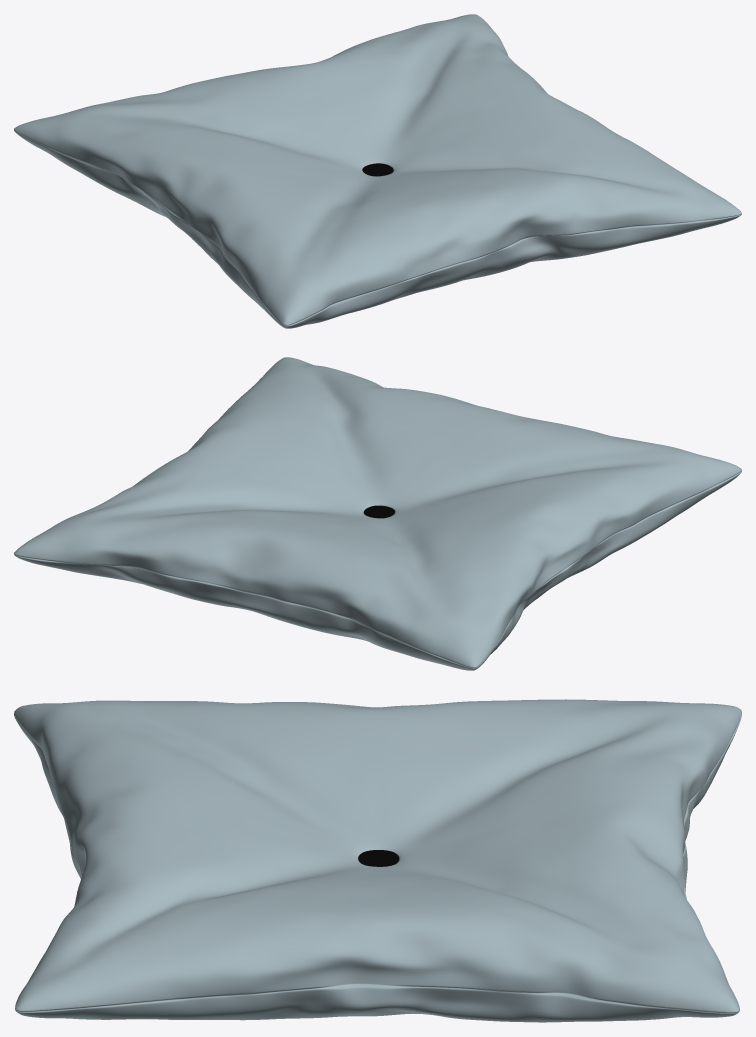
The model's file is ritaspillow.glb.
The picture shows the model from 3 angles, top to bottom: view 1: azimuth 30°, elevation 25°; view 2: azimuth 150°, elevation 25°; view 3: azimuth 270°, elevation 25°; orthographic projection. The views are drawn at different scales.
Visible parts, largest first — view 1: Plane003; view 2: Plane003; view 3: Plane003, Cylinder.
Part boxes in pixels (x1,y1,x2,y2): Plane003: [14, 14, 741, 328]; Plane003: [14, 357, 741, 670]; Plane003: [14, 699, 741, 1022]; Cylinder: [358, 850, 399, 866].
Bounding box in the file's own units: 1.45 × 0.2299 × 1.46.
